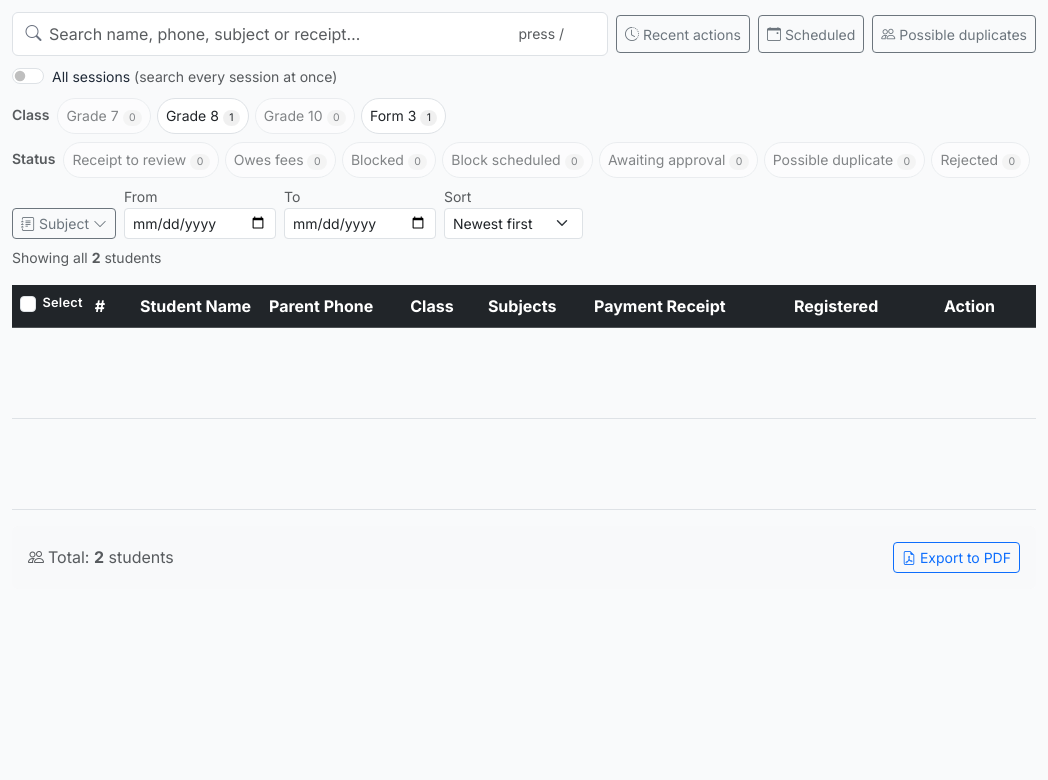
it: matches hidden in other sessions › offers to search all sessions when the open one has no match
This screenshot has width=1048, height=780.
Type "faith" into the search field named "Search students" at (310,34), box [12,12,608,56]
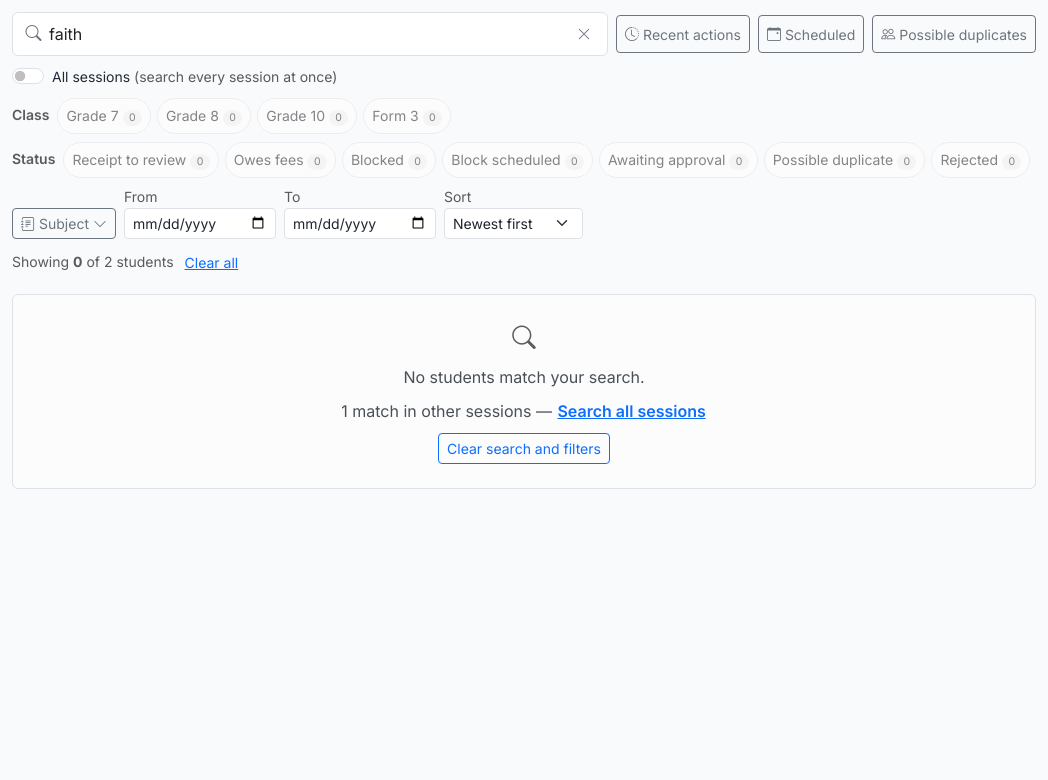
expect the element with test id "no-results" shows "1 match in other sessions": met, box [12,294,1036,489]
Click the button "Search all sessions" at (632,411), box [556,398,707,424]
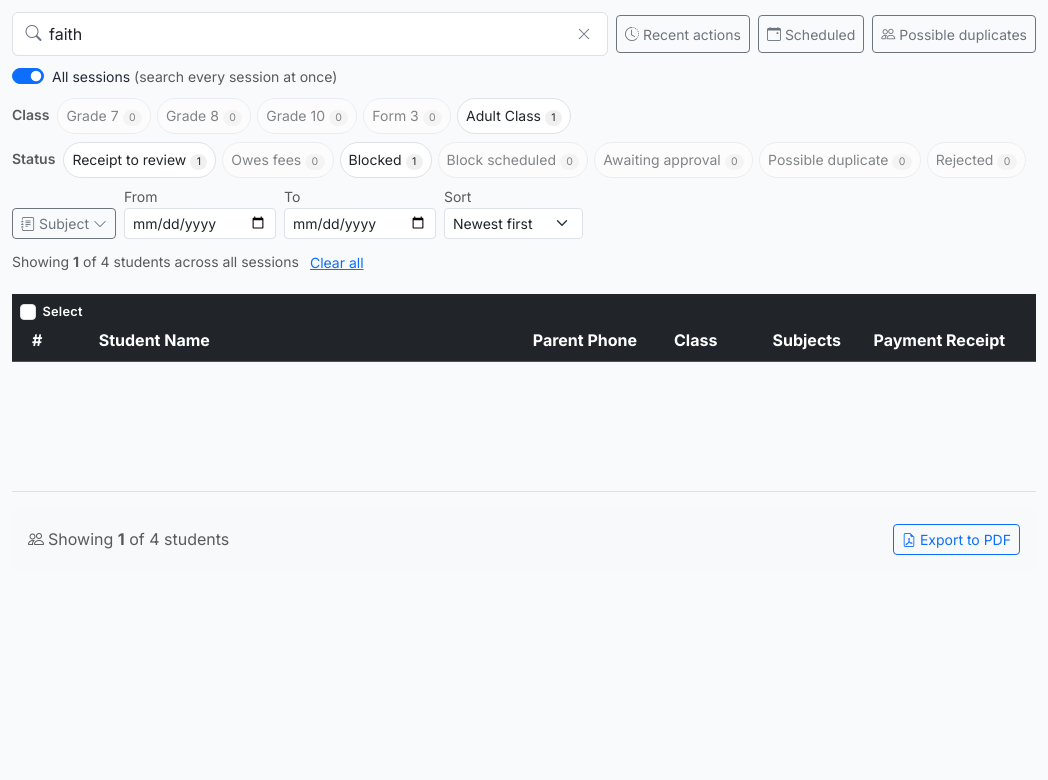
expect the checkbox labelled "All sessions (search every session at once)" is checked: met, box [12,68,44,84]
